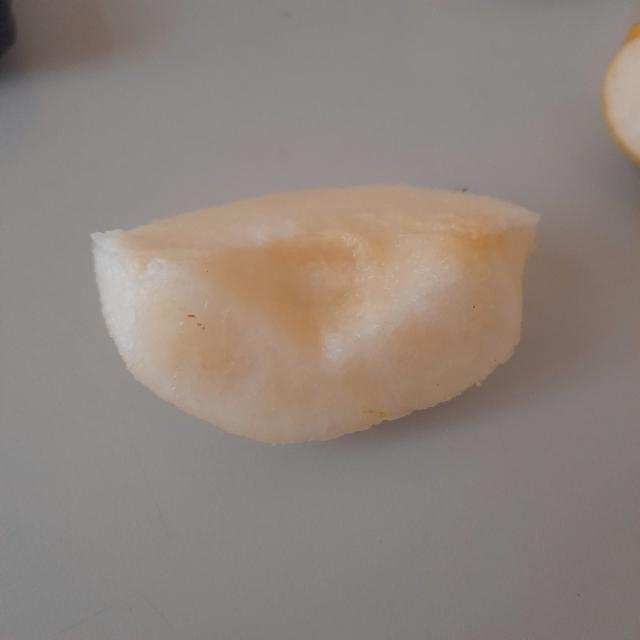Le: (78, 161, 578, 459)
